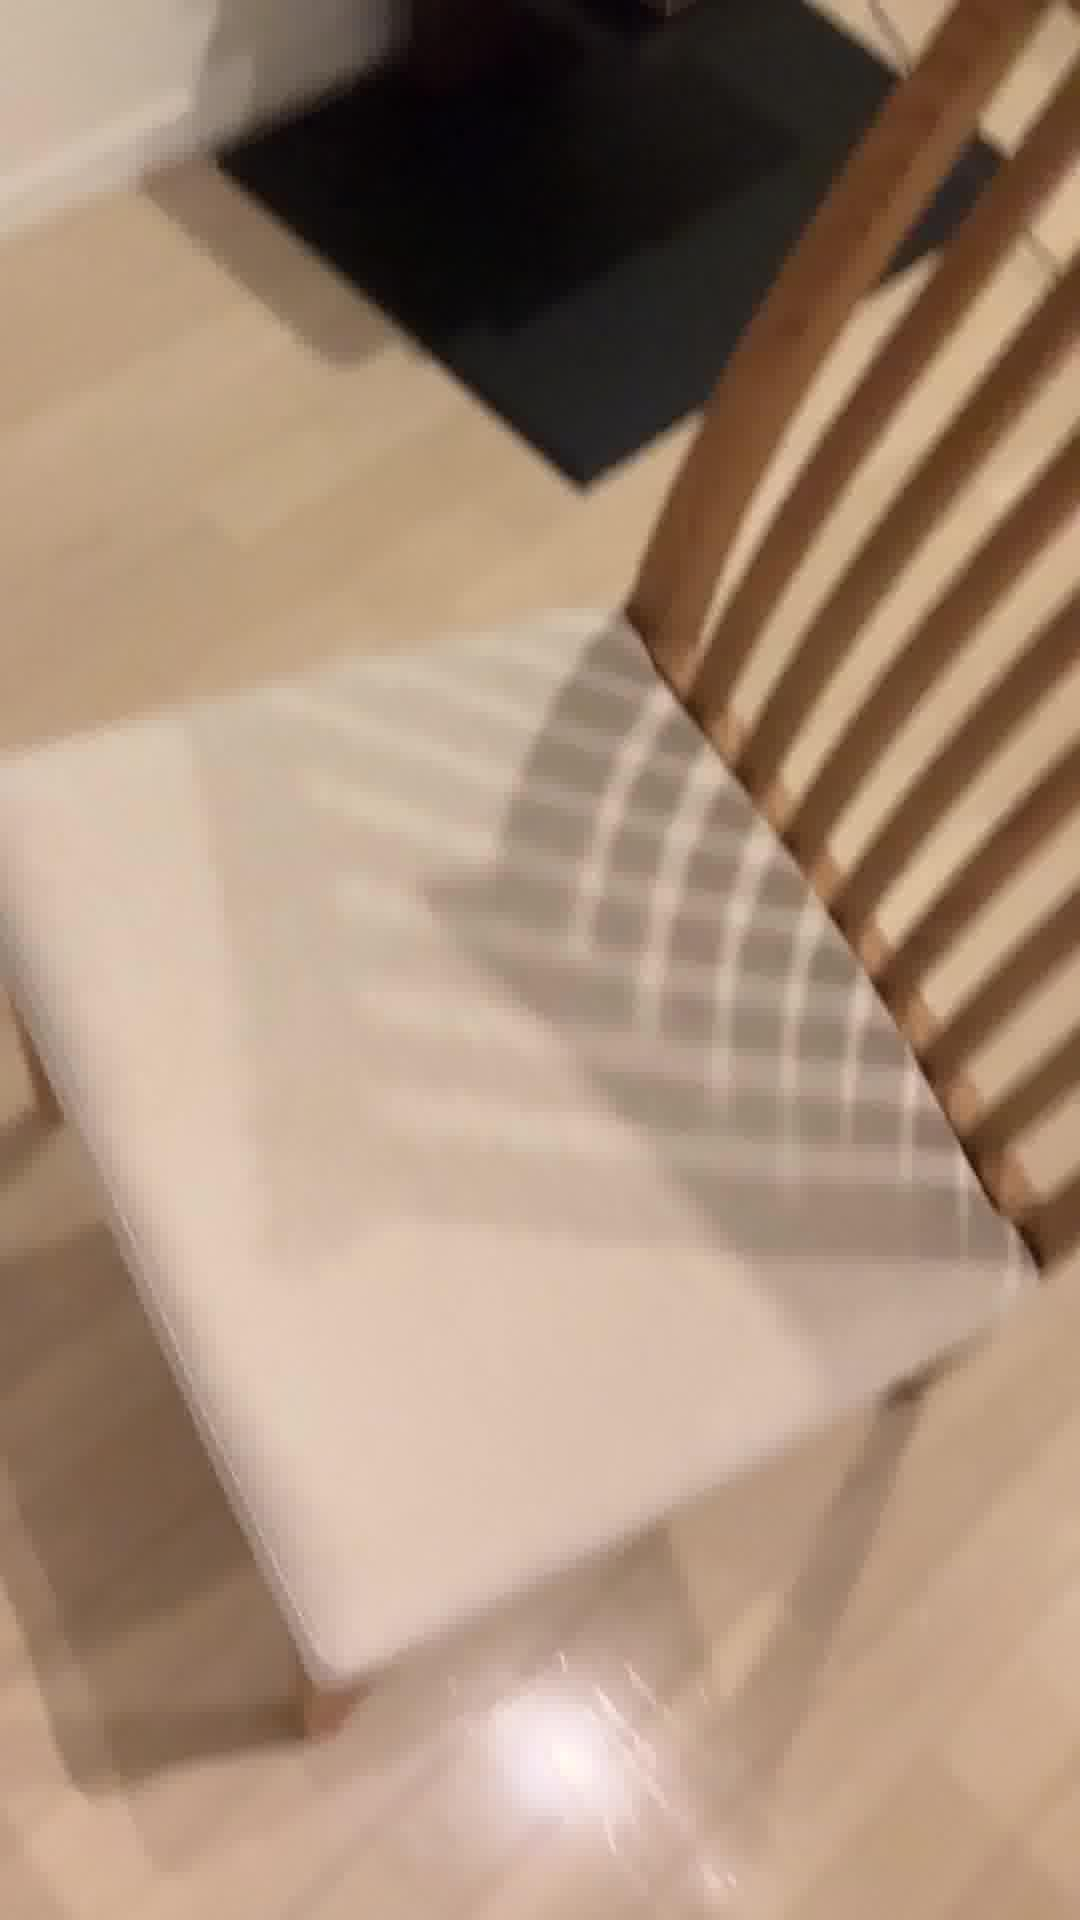takumikan-chair: (0, 0, 1080, 1738)
